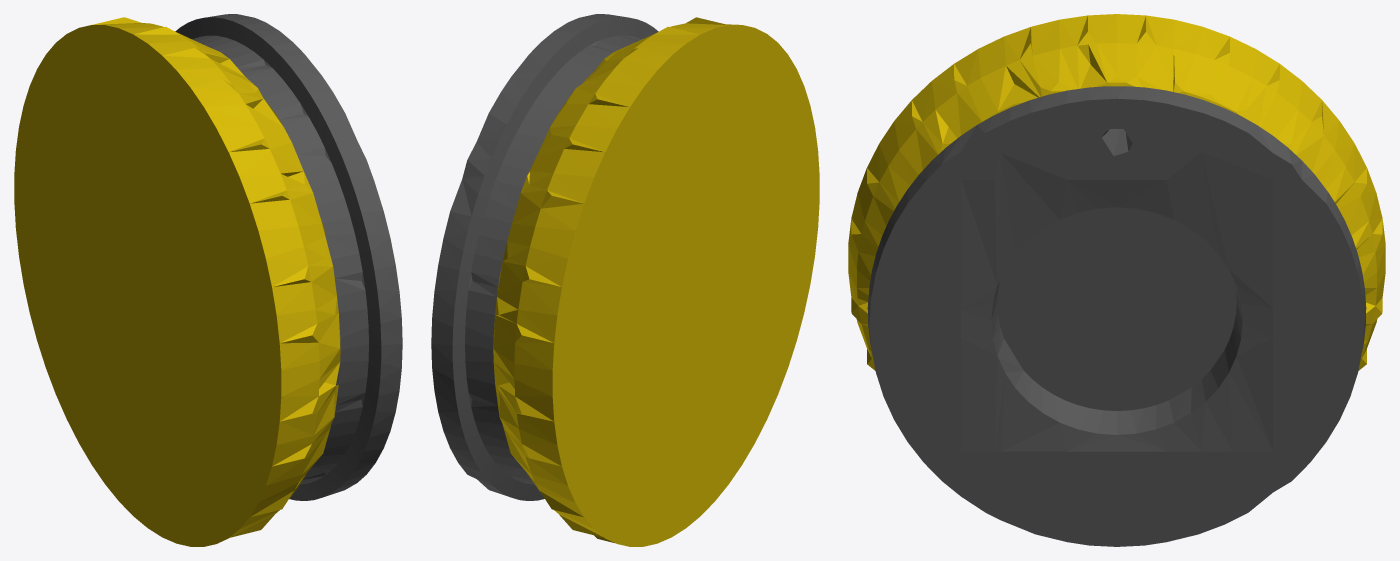
3 views of the same model, side by side, from view 1: azimuth 30°, elevation 25°; view 2: azimuth 150°, elevation 25°; view 3: azimuth 270°, elevation 25° (orthographic).
Visible parts, largest first — view 1: kr60_7; view 2: kr60_7; view 3: kr60_7.
Boxes of the visible parts, box(x1,y1,x2,y2) form: kr60_7: box(14, 14, 402, 546); kr60_7: box(431, 14, 819, 546); kr60_7: box(848, 14, 1385, 546).
Bounding box in the file's own units: 0.0459 × 0.1607 × 0.1609.
